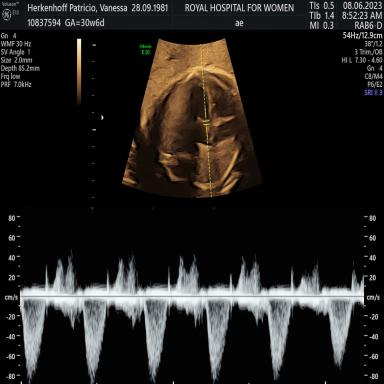Ultrasound-Waves: (25, 212, 363, 384)
